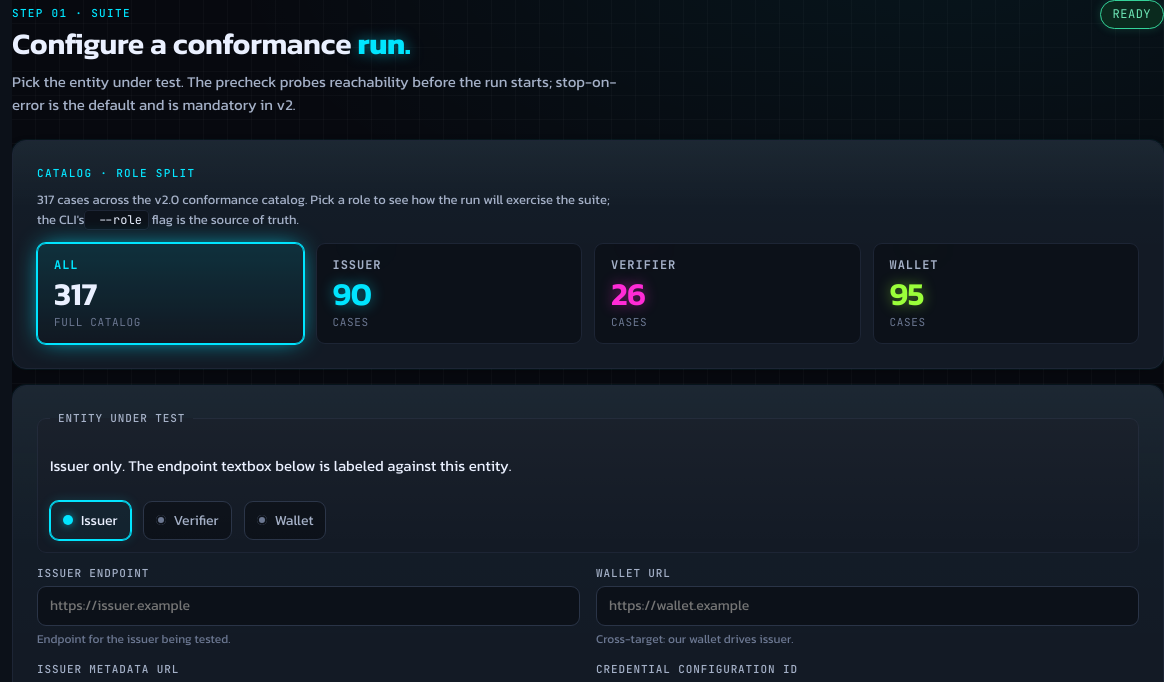
Test: SuiteRoute — entity-driven endpoint form (MAS-302) › relabels the endpoint field to "Verifier endpoint" when the entity flips to verifier
The width and height of the screenshot is (1164, 682).
Click the radio button with test id "entity-radio-input-verifier": (187, 520) [143, 500, 232, 540]
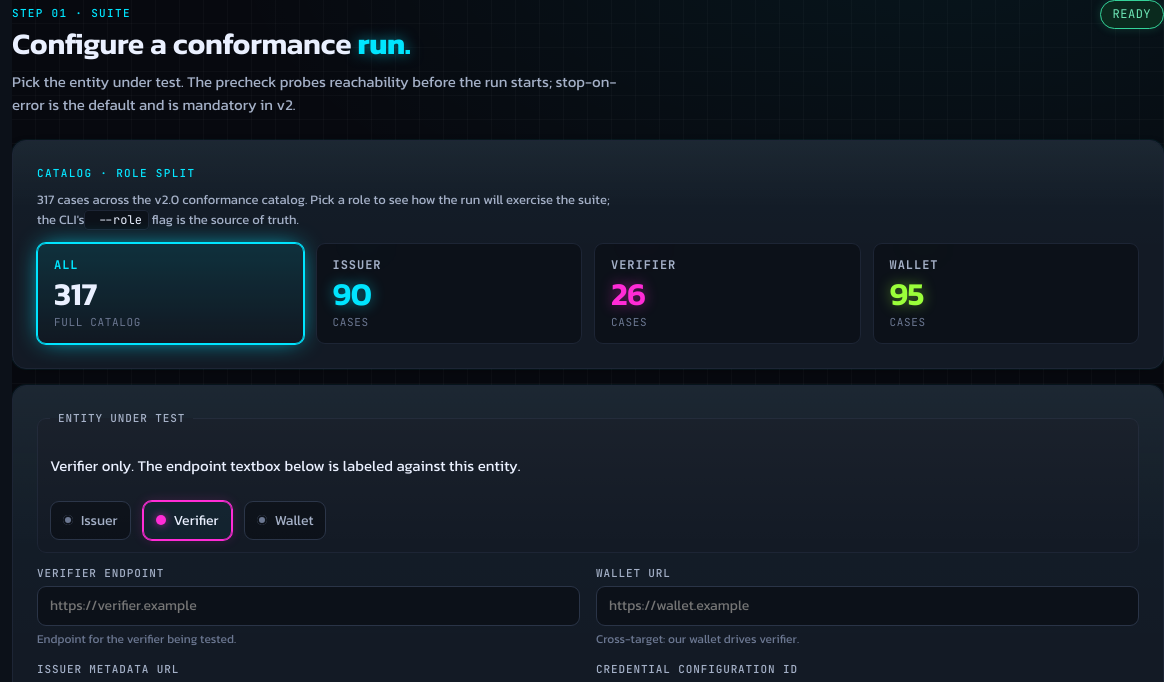
Now the label with test id "entity-endpoint-label" reads "Verifier endpoint", box [37, 566, 164, 580]
